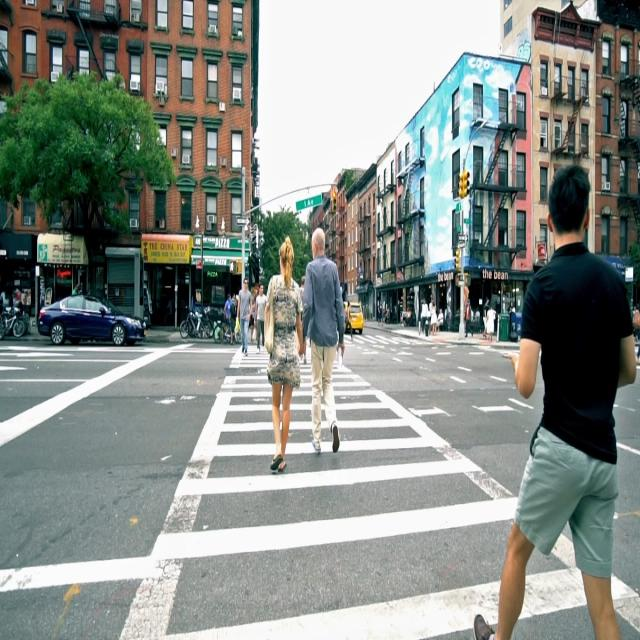Persona: (472, 155, 639, 640), (299, 227, 357, 472), (264, 232, 304, 477), (234, 276, 254, 358)
